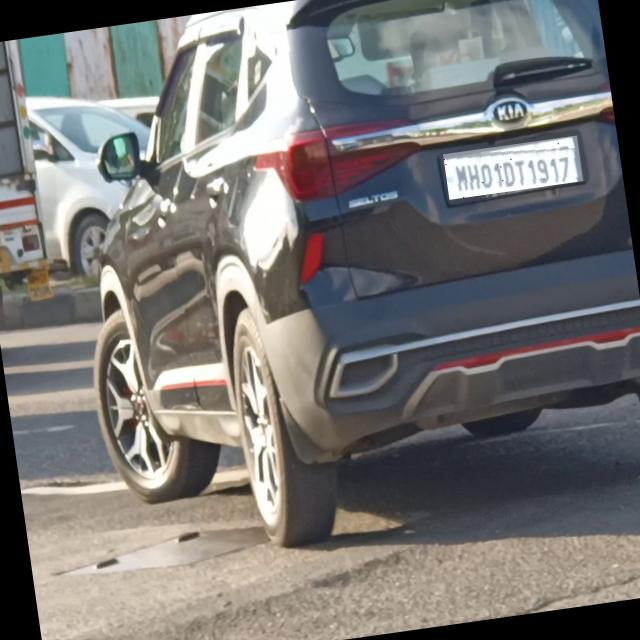Plate: (445, 136, 588, 201)
